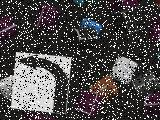Left: (11, 52, 71, 114)
